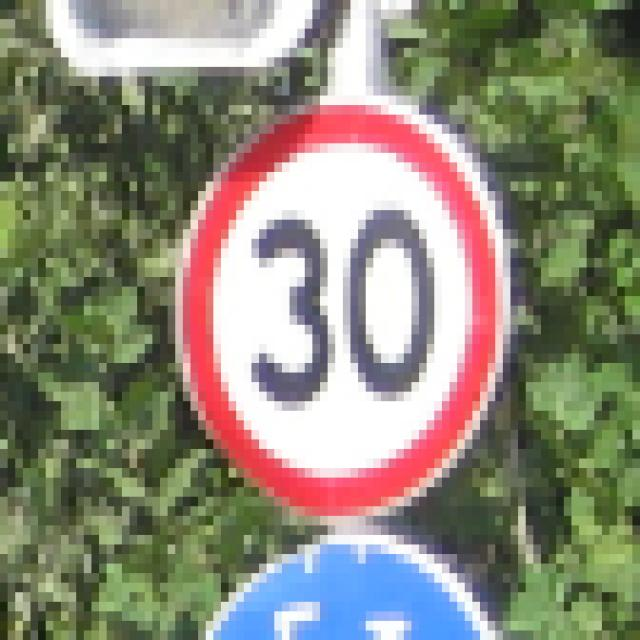Speed: (187, 94, 497, 524)
